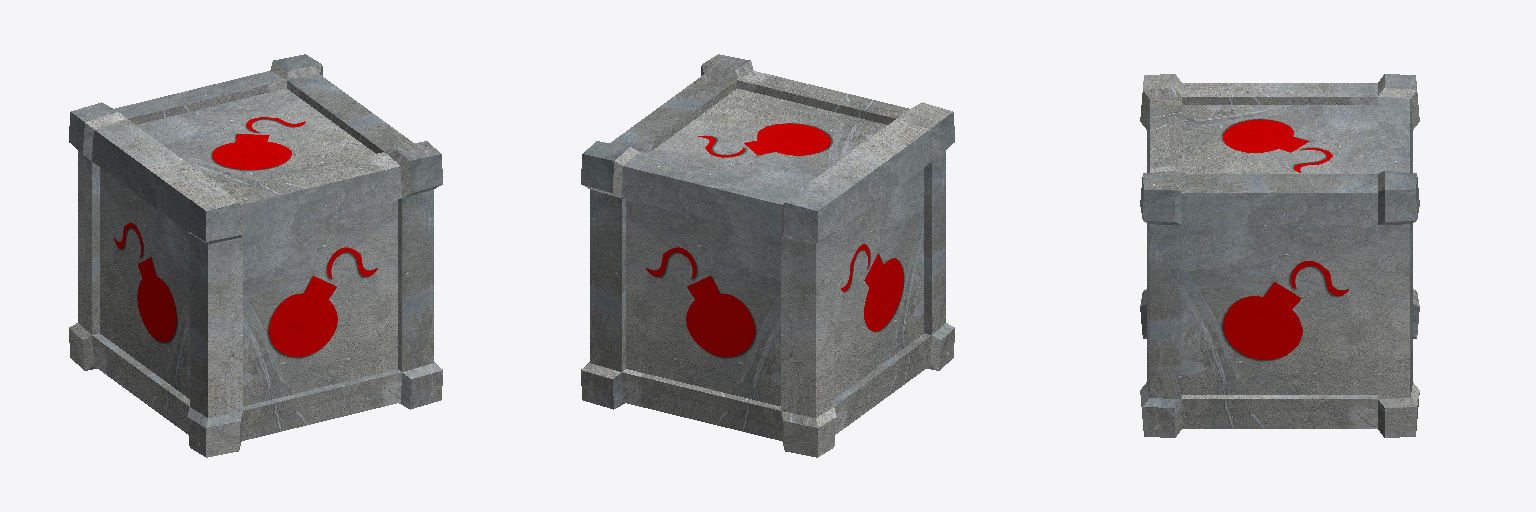
3 renders of one model, left to right at view 1: azimuth 30°, elevation 25°; view 2: azimuth 150°, elevation 25°; view 3: azimuth 270°, elevation 25°, orthographic.
Bounding box in the file's own units: 2.25 × 2.25 × 2.26.
2 materials, 1 textured.